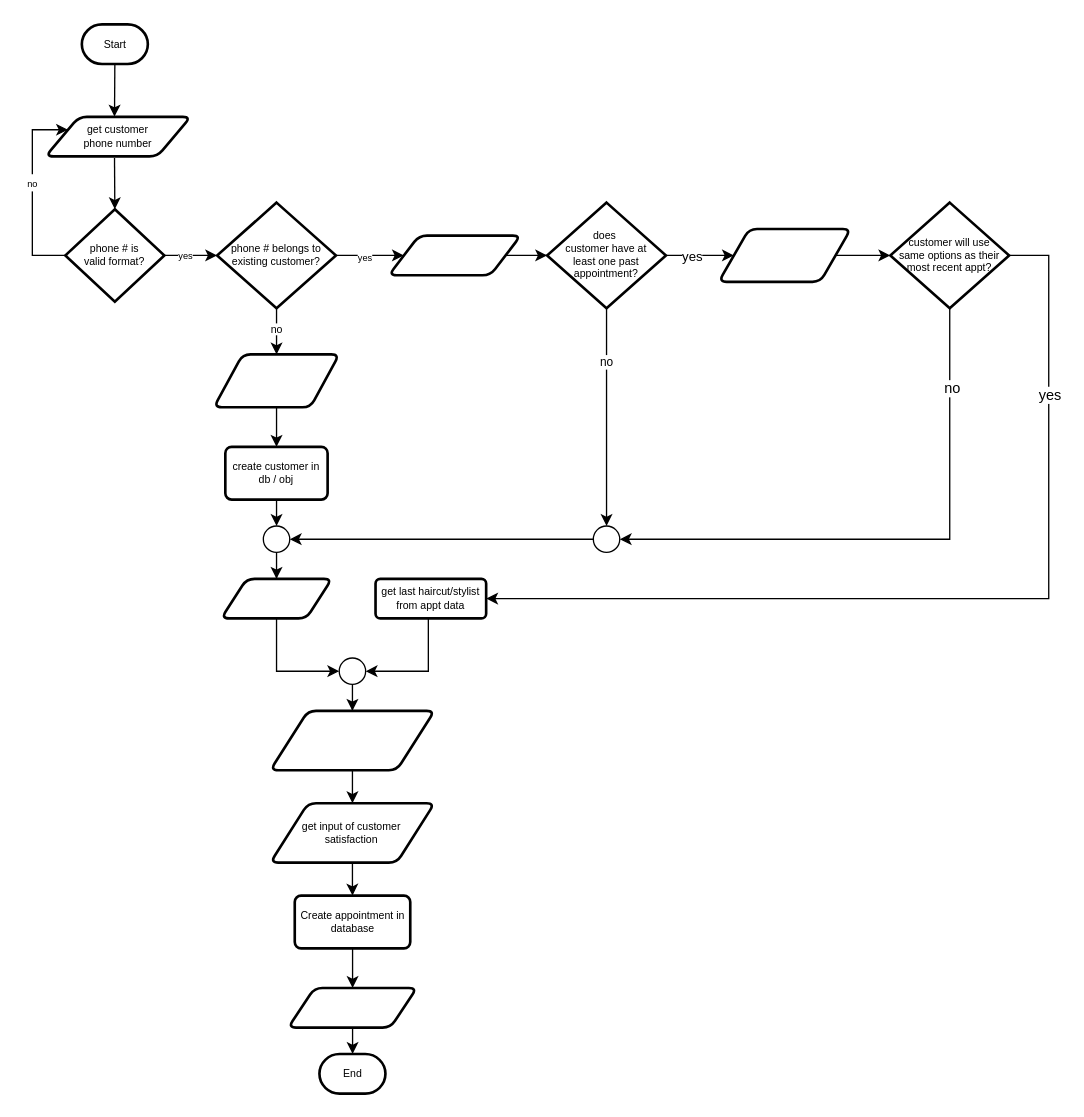
Image size: 1084x1117. Some labels were removed from this diagram. Each missing label, with the centre of its shape:
display returning customer message: (x=454, y=255)
display thank you message: (x=352, y=1007)
gather customer info: (x=276, y=380)
get customer choice of using last appt choices: (x=784, y=254)
get haircut & stylist inputs: (x=276, y=598)
Perform haircut (print message that haircut was performed): (x=351, y=740)
